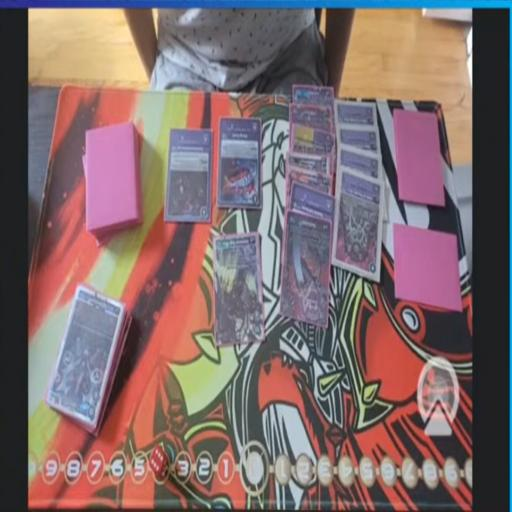card: (46, 290, 124, 423), (212, 229, 263, 350), (334, 166, 385, 282), (282, 214, 331, 324), (163, 129, 210, 229), (218, 113, 261, 211), (338, 141, 382, 190), (289, 182, 336, 227), (288, 120, 337, 162), (287, 166, 333, 206), (288, 100, 334, 133), (285, 151, 334, 179), (336, 122, 381, 152), (292, 81, 334, 109), (334, 98, 379, 123)
